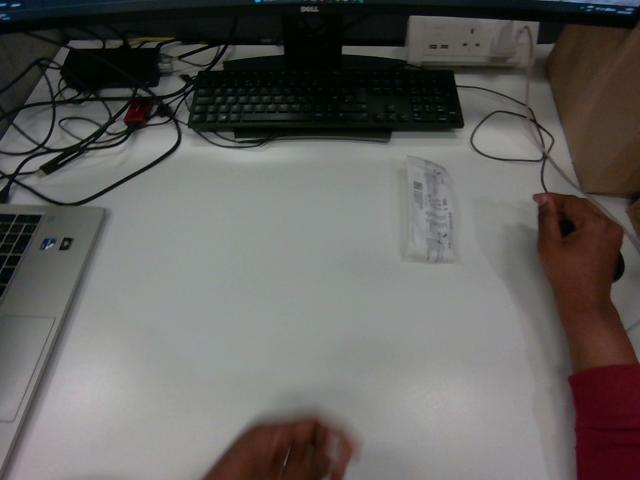syringe: (405, 157, 455, 263)
